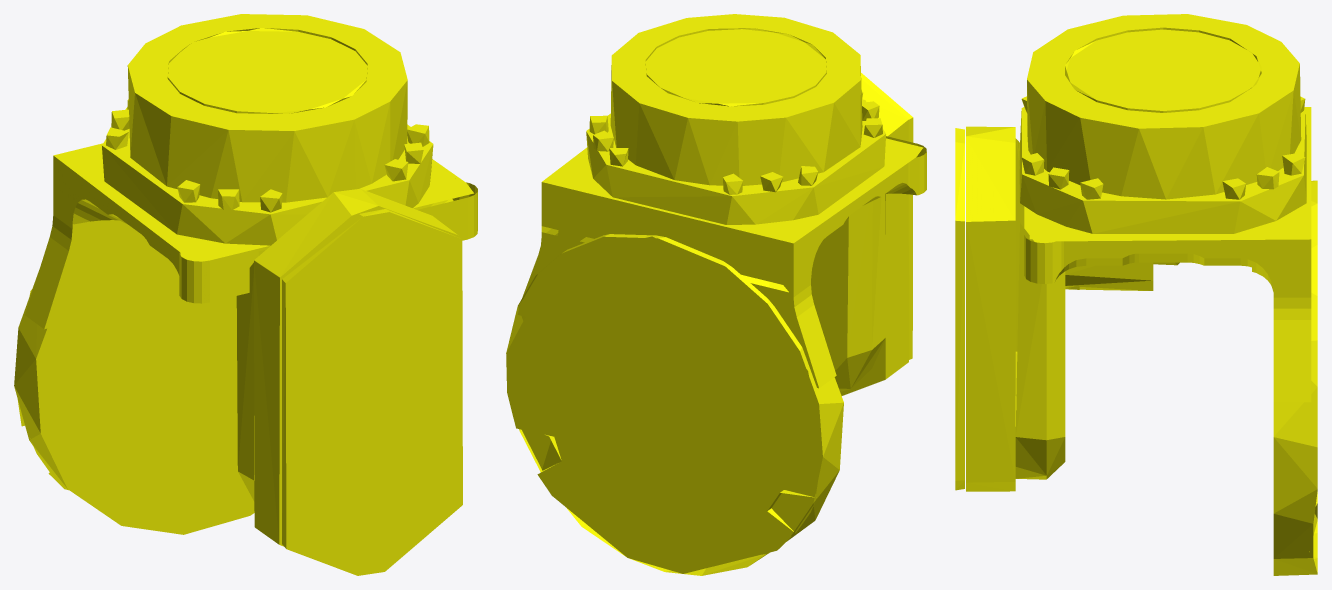
3 views of the same model, side by side, from view 1: azimuth 30°, elevation 25°; view 2: azimuth 150°, elevation 25°; view 3: azimuth 270°, elevation 25° (orthographic). The views are drawn at different scales.
Parts seen in each view (by area): view 1: node; view 2: node; view 3: node.
Boxes of the visible parts, box(x1,y1,x2,y2) form: node: box(14, 14, 477, 575); node: box(506, 14, 926, 575); node: box(955, 14, 1317, 575).
Bounding box in the file's own units: 179 × 244 × 164.
